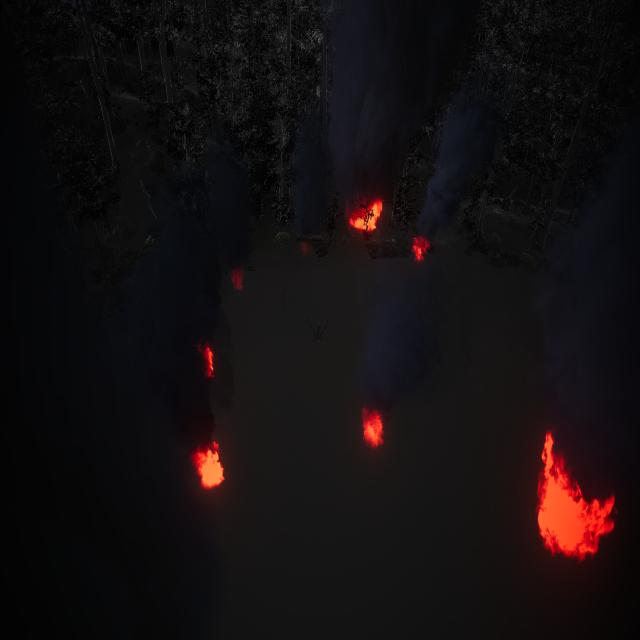Human: (305, 305, 334, 344)
